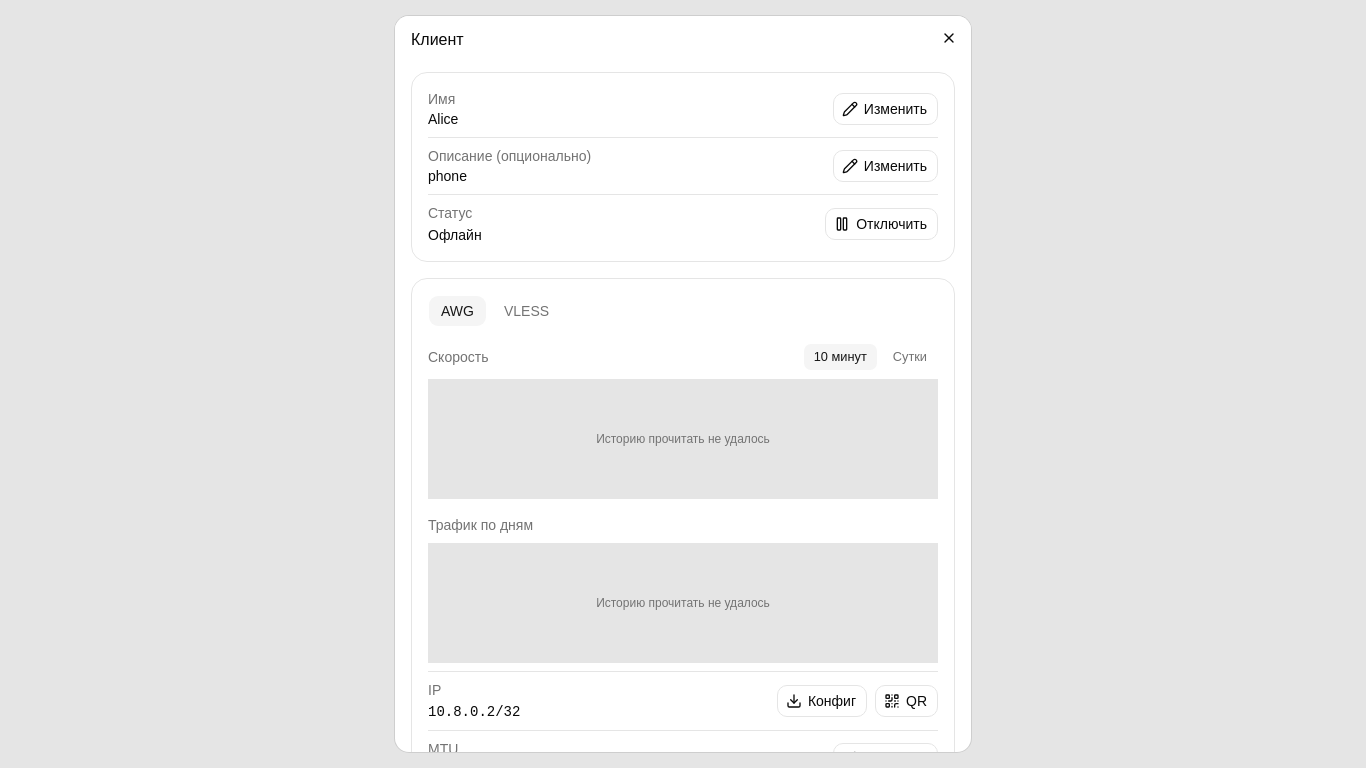
Test: ClientInfoDialog › saves a changed name without closing the dialog
Click the button with aria-label "Изменить имя": (885, 109) [833,93,938,125]
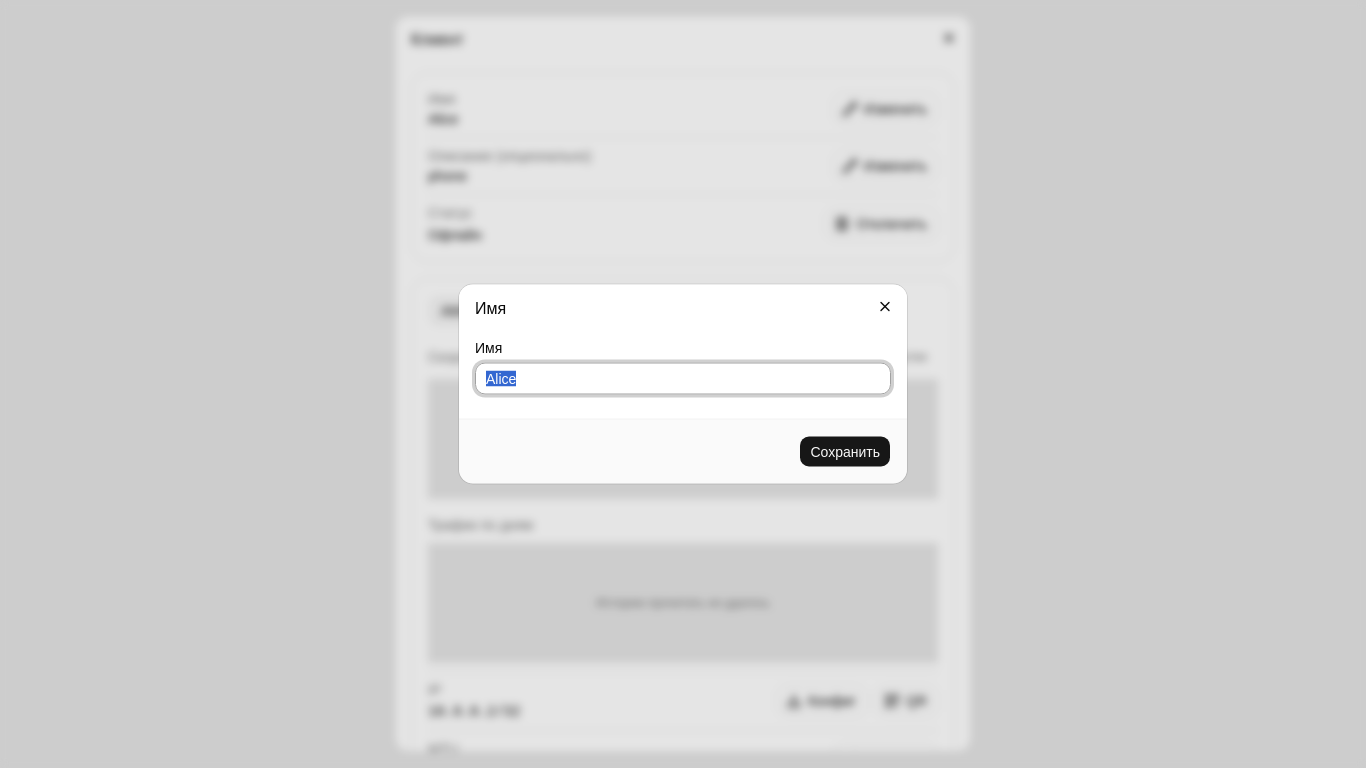
Replace the text in the field labelled "Имя" with "Bob": (683, 378) [475,362,891,394]
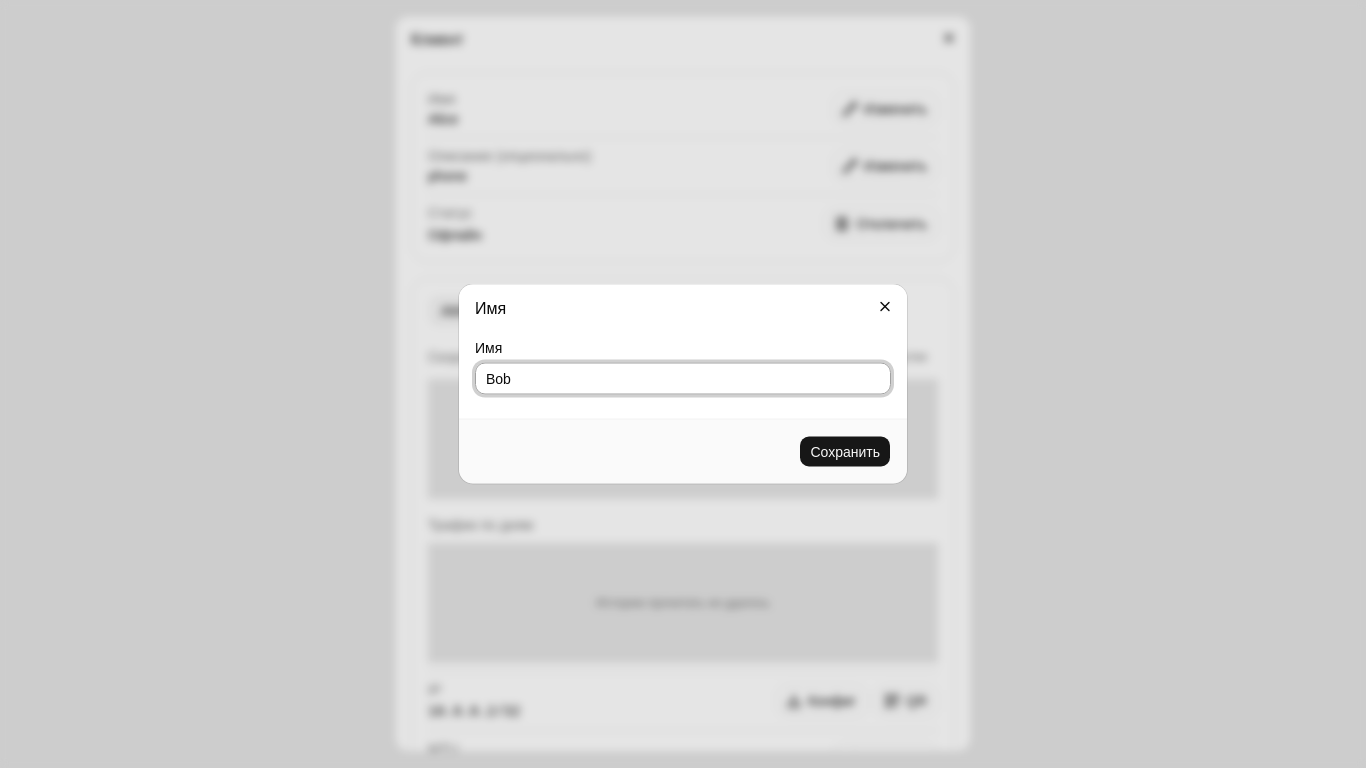
Click the button with aria-label "Сохранить имя": (845, 452) [799,436,891,468]
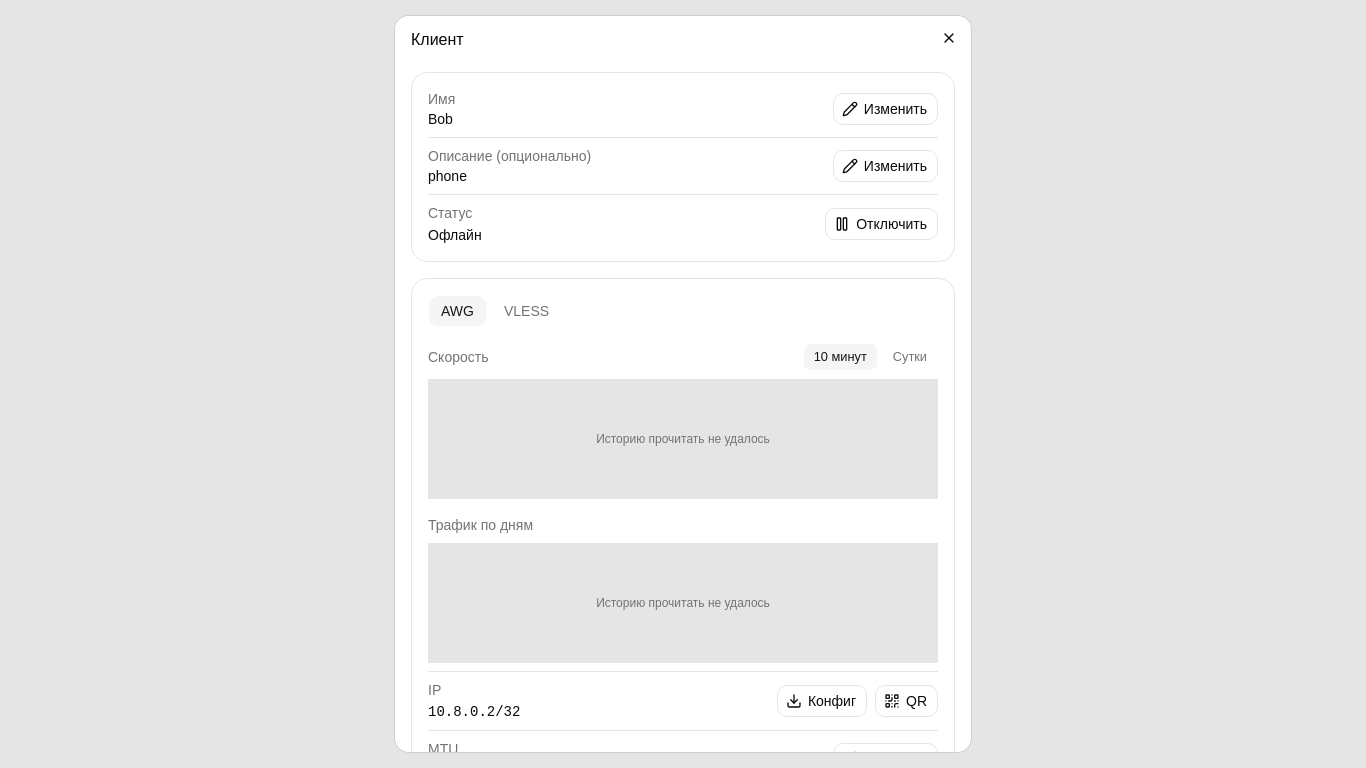
Now the label with id "info-name" is gone
Now the text "Bob" is shown, box [428,111,453,127]
